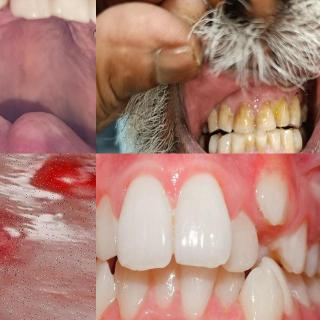Gum Swelling: (0, 204, 48, 284)
maligned: (247, 158, 303, 233), (235, 257, 282, 320), (218, 208, 263, 266), (96, 258, 116, 320)
plaque: (279, 136, 291, 154), (300, 103, 311, 121)
stains: (234, 103, 254, 131), (256, 100, 274, 128), (217, 102, 233, 128), (276, 97, 290, 123), (87, 14, 96, 53), (266, 132, 278, 154), (245, 136, 255, 154), (256, 136, 266, 154)
